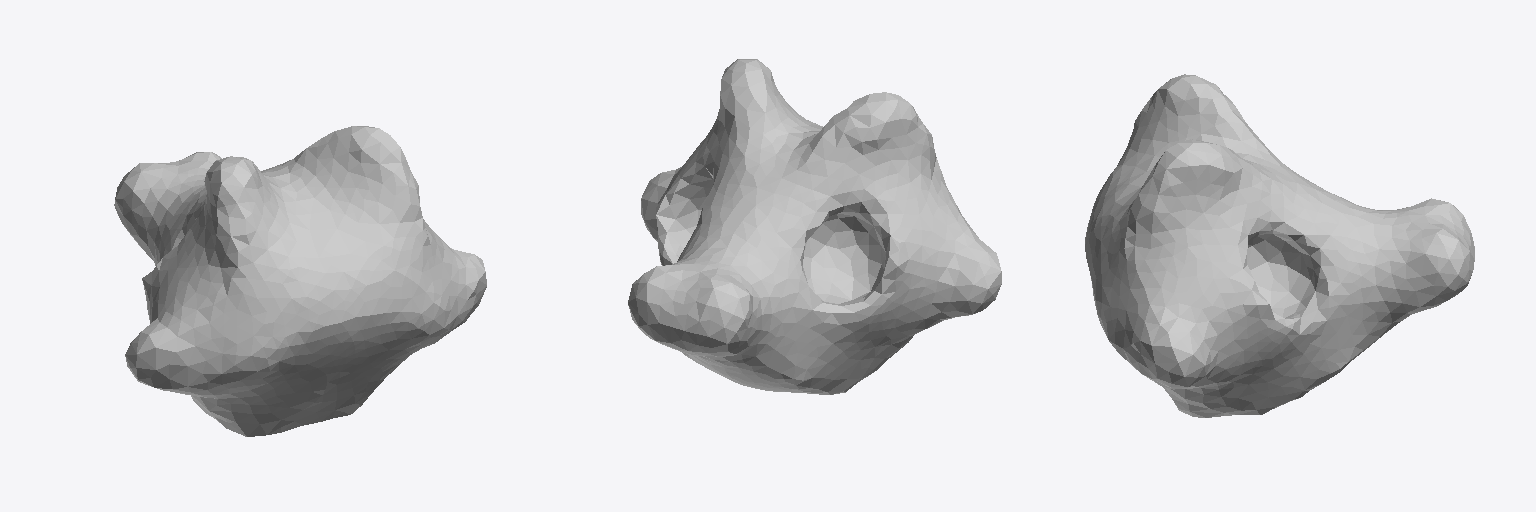
The model's file is PlayerHead1.obj.
3 renders of one model, left to right at view 1: azimuth 30°, elevation 25°; view 2: azimuth 150°, elevation 25°; view 3: azimuth 270°, elevation 25°, orthographic.
Visible parts, largest first — view 1: Cube; view 2: Cube; view 3: Cube.
Boxes of the visible parts, <box> form: Cube: <box>114,126,486,436</box>; Cube: <box>628,59,1001,394</box>; Cube: <box>1085,74,1474,417</box>.
Bounding box in the file's own units: 3.01 × 2.36 × 2.88.